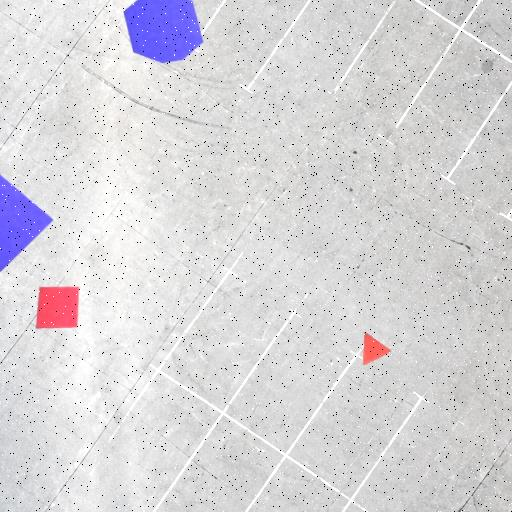BLUE_SQUARE: (0, 162, 54, 279)
RED_SQUARE: (35, 286, 80, 329)
